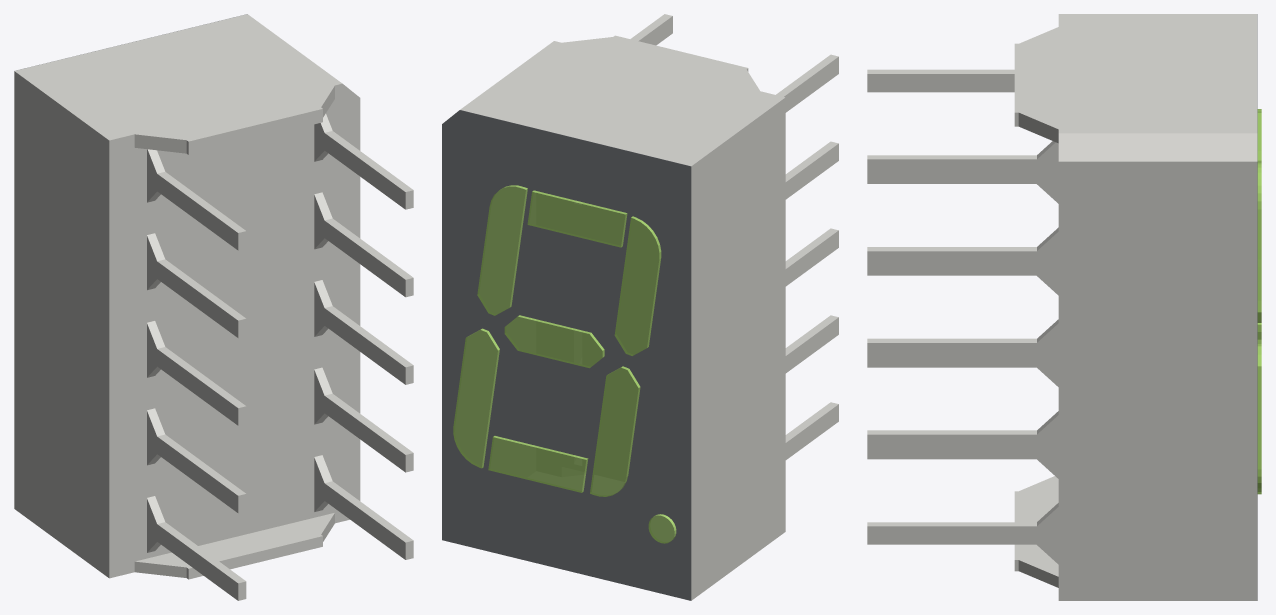
File: HDSP-7801.glb
The picture shows the model from 3 angles, left to right: view 1: azimuth 30°, elevation 25°; view 2: azimuth 150°, elevation 25°; view 3: azimuth 270°, elevation 25°; orthographic projection. The views are drawn at different scales.
Visible parts, largest first — view 1: Shape_IndexedFaceSet.010, Shape_IndexedFaceSet.100, Shape_IndexedFaceSet.143, Shape_IndexedFaceSet.016, Shape_IndexedFaceSet.015, Shape_IndexedFaceSet.017, Shape_IndexedFaceSet.090, Shape_IndexedFaceSet.121, Shape_IndexedFaceSet.127, Shape_IndexedFaceSet.123, Shape_IndexedFaceSet.134, Shape_IndexedFaceSet.136 (+18 smaller); view 2: Shape_IndexedFaceSet.164, Shape_IndexedFaceSet.100, Shape_IndexedFaceSet.143, Shape_IndexedFaceSet.214, Shape_IndexedFaceSet.218, Shape_IndexedFaceSet.213, Shape_IndexedFaceSet.215, Shape_IndexedFaceSet.216, Shape_IndexedFaceSet.219, Shape_IndexedFaceSet.217, Shape_IndexedFaceSet.134, Shape_IndexedFaceSet.121 (+4 smaller); view 3: Shape_IndexedFaceSet.097, Shape_IndexedFaceSet.143, Shape_IndexedFaceSet.098, Shape_IndexedFaceSet.113, Shape_IndexedFaceSet.001, Shape_IndexedFaceSet.108, Shape_IndexedFaceSet.118, Shape_IndexedFaceSet.141, Shape_IndexedFaceSet.132, Shape_IndexedFaceSet.017, Shape_IndexedFaceSet.145, Shape_IndexedFaceSet.129 (+15 smaller).
Part boxes in pixels (x1,y1,x2,y2): Shape_IndexedFaceSet.010: (134, 99, 334, 561); Shape_IndexedFaceSet.100: (15, 72, 109, 577); Shape_IndexedFaceSet.143: (15, 14, 341, 141); Shape_IndexedFaceSet.016: (109, 148, 134, 567); Shape_IndexedFaceSet.015: (335, 94, 360, 512); Shape_IndexedFaceSet.017: (135, 513, 334, 568); Shape_IndexedFaceSet.090: (188, 109, 322, 154); Shape_IndexedFaceSet.121: (157, 349, 238, 425); Shape_IndexedFaceSet.127: (157, 524, 238, 600); Shape_IndexedFaceSet.123: (157, 437, 238, 512); Shape_IndexedFaceSet.134: (157, 174, 238, 250); Shape_IndexedFaceSet.136: (157, 262, 238, 337); Shape_IndexedFaceSet.164: (442, 110, 691, 600); Shape_IndexedFaceSet.100: (692, 97, 785, 599); Shape_IndexedFaceSet.143: (461, 35, 784, 165); Shape_IndexedFaceSet.214: (614, 217, 659, 355); Shape_IndexedFaceSet.218: (477, 186, 525, 315); Shape_IndexedFaceSet.213: (590, 367, 638, 496); Shape_IndexedFaceSet.215: (453, 330, 497, 468); Shape_IndexedFaceSet.216: (488, 437, 586, 492); Shape_IndexedFaceSet.219: (527, 192, 625, 247); Shape_IndexedFaceSet.217: (504, 316, 602, 368); Shape_IndexedFaceSet.134: (784, 57, 838, 112); Shape_IndexedFaceSet.121: (785, 230, 838, 286); Shape_IndexedFaceSet.097: (1058, 161, 1255, 600); Shape_IndexedFaceSet.143: (1014, 14, 1255, 133); Shape_IndexedFaceSet.098: (1058, 133, 1255, 161); Shape_IndexedFaceSet.113: (867, 434, 1036, 452); Shape_IndexedFaceSet.001: (867, 159, 1036, 177); Shape_IndexedFaceSet.108: (867, 526, 1036, 544); Shape_IndexedFaceSet.118: (867, 343, 1036, 361); Shape_IndexedFaceSet.141: (867, 251, 1036, 269); Shape_IndexedFaceSet.132: (867, 74, 1014, 92); Shape_IndexedFaceSet.017: (1014, 476, 1058, 576); Shape_IndexedFaceSet.145: (1255, 161, 1257, 600); Shape_IndexedFaceSet.129: (867, 453, 1036, 459).
Bounding box in the file's own units: 3 × 5 × 3.9.
